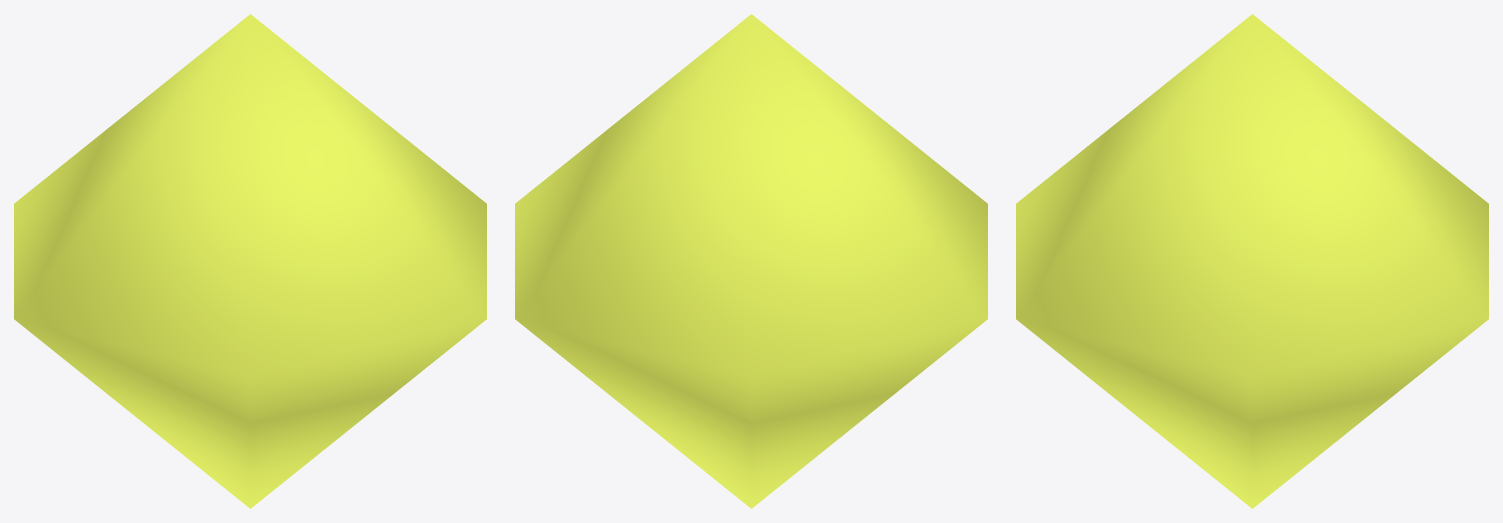
3 views of the same model, side by side, from view 1: azimuth 30°, elevation 25°; view 2: azimuth 150°, elevation 25°; view 3: azimuth 270°, elevation 25° (orthographic).
Size of the model in its own units: 1.84 by 1.84 by 1.59.
